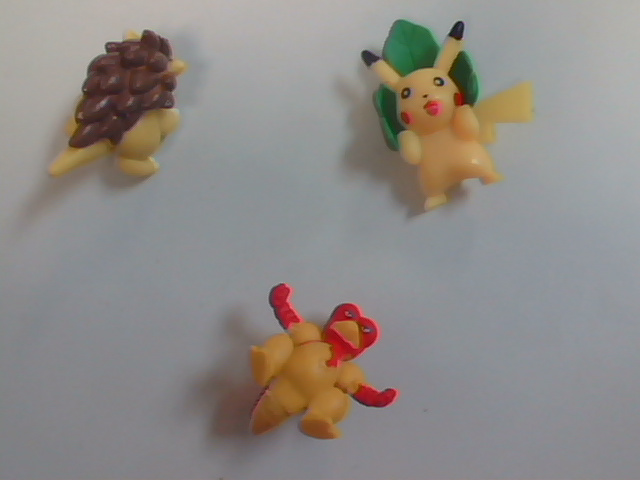magmar: (212, 264, 442, 465)
pikachu: (331, 10, 535, 217)
sandslash: (31, 10, 213, 205)
